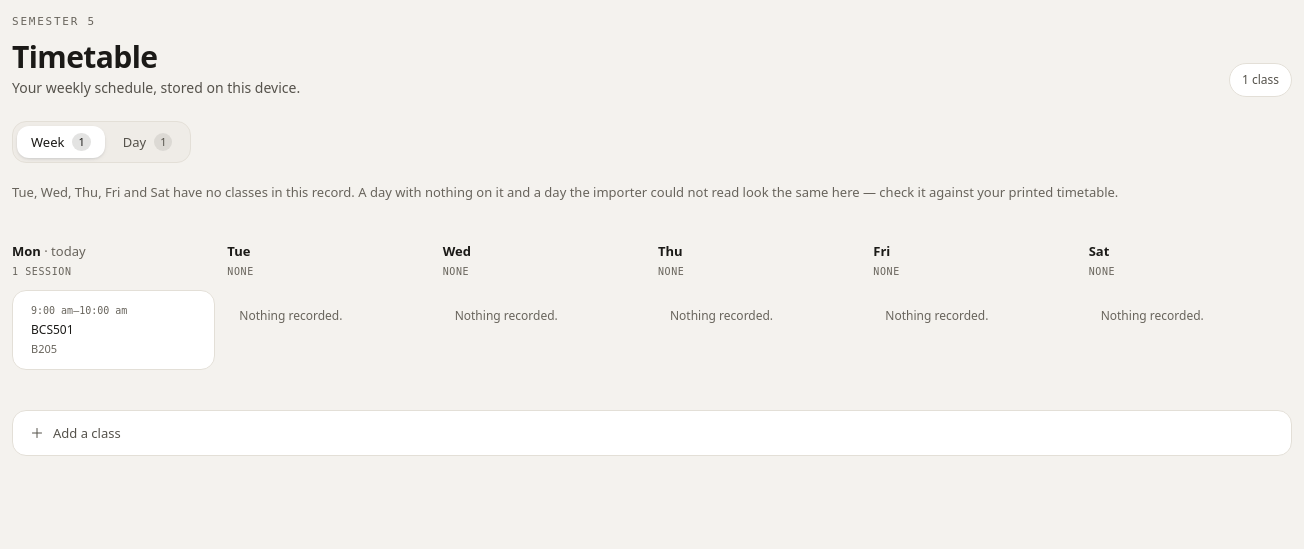
Test: a day the college is shut › shows the classes again on a day the calendar says nothing about
Click the tab "Day 1": {"x": 148, "y": 142} [109, 126, 186, 158]
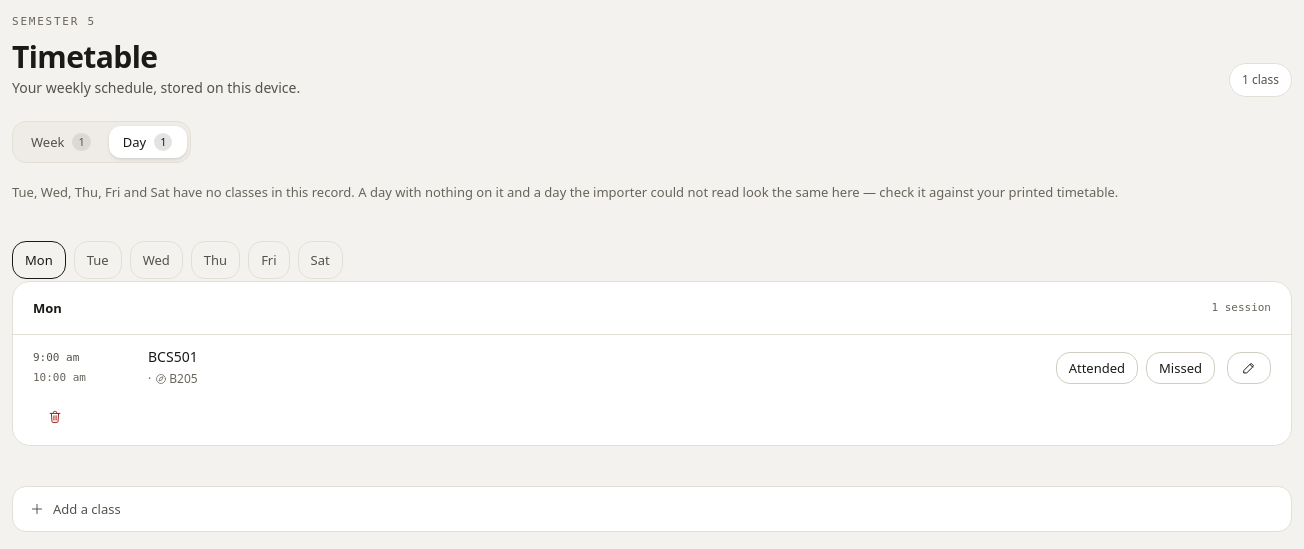
Now the button with aria-label "mark BCS501 attended" is shown, box [1056, 352, 1138, 384]
